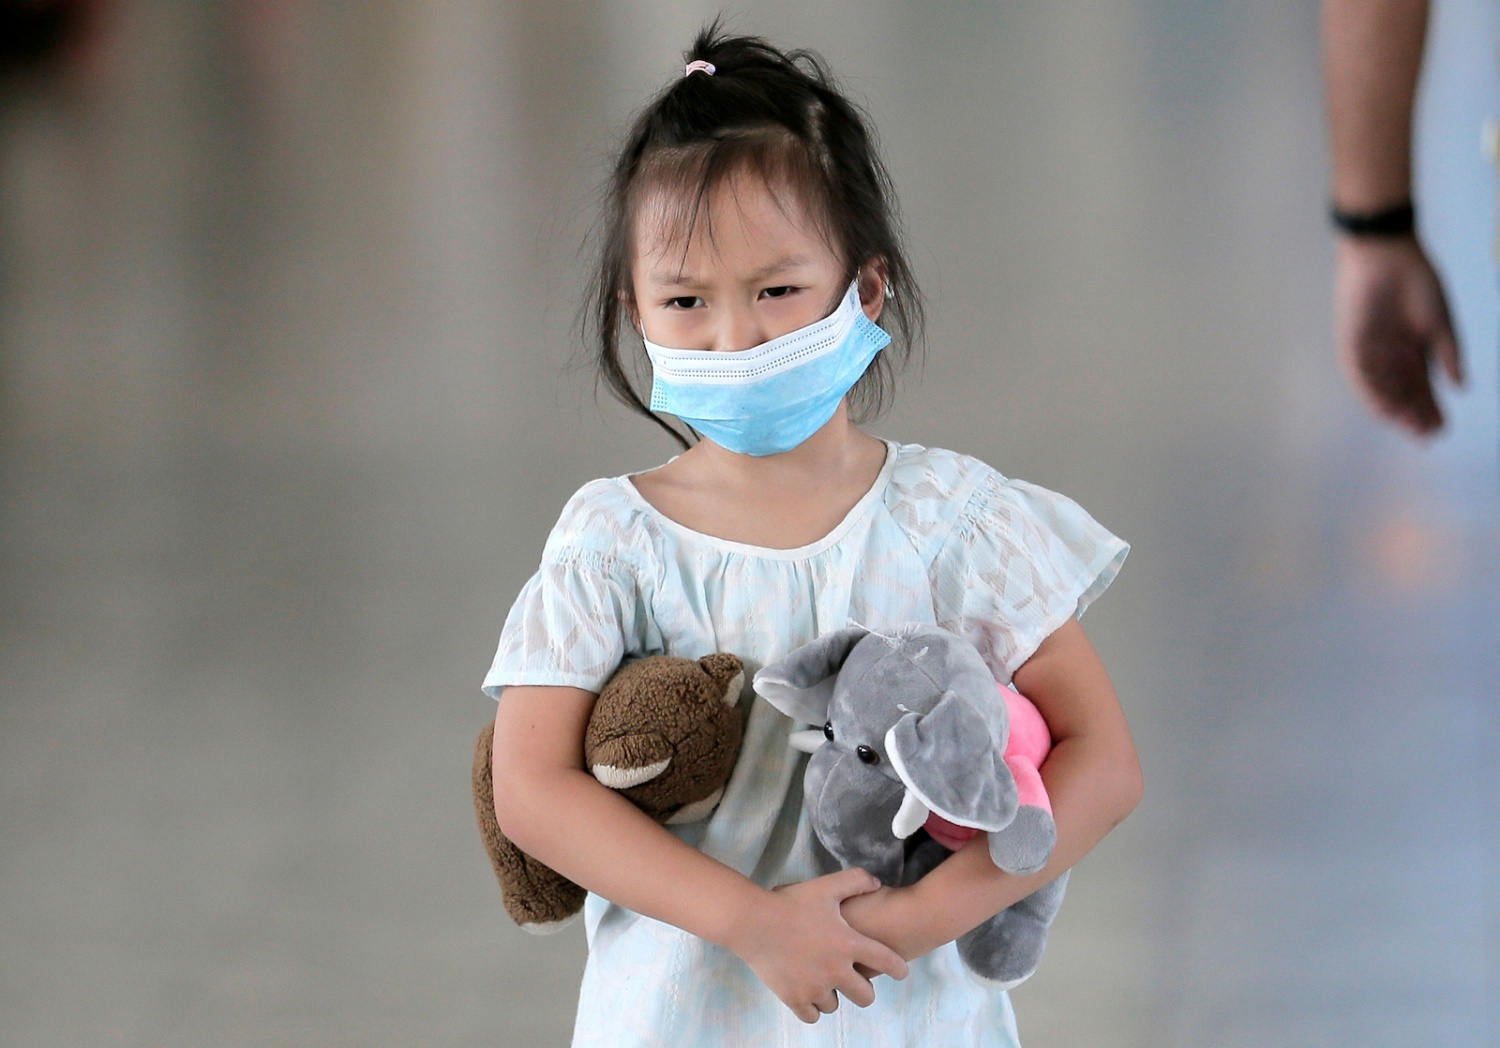with_mask: (613, 163, 904, 459)
